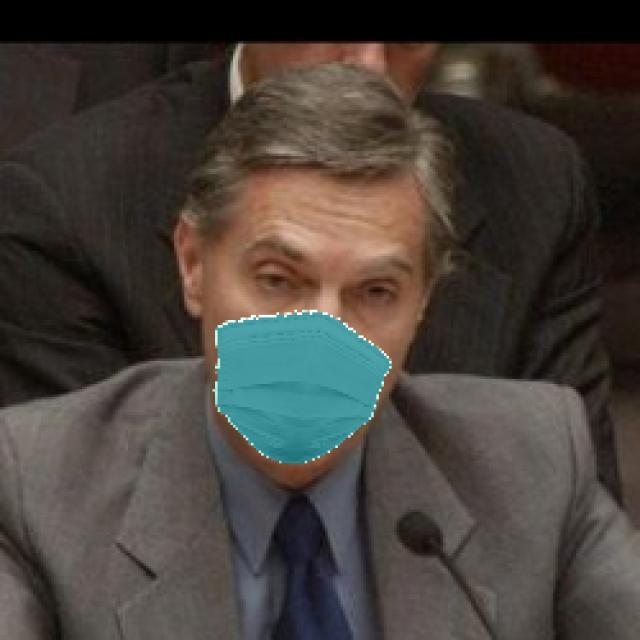mask: (186, 272, 408, 502)
